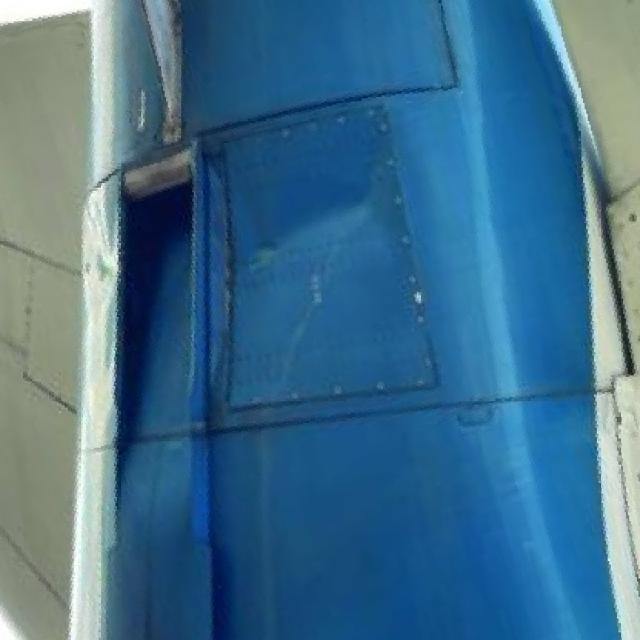dent: (229, 172, 444, 298)
